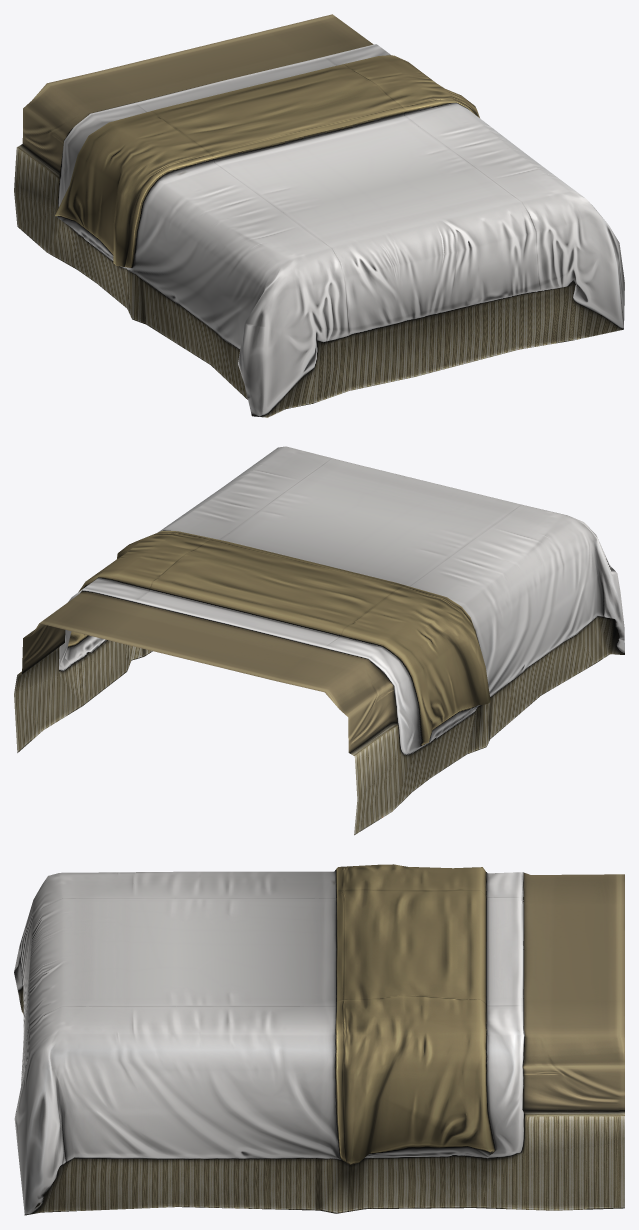
Rendered from Bed02.FBX.
3 renders of one model, top to bottom at view 1: azimuth 30°, elevation 25°; view 2: azimuth 150°, elevation 25°; view 3: azimuth 270°, elevation 25°, orthographic. The views are drawn at different scales.
Parts seen in each view (by area): view 1: Bed02; view 2: Bed02; view 3: Bed02.
Boxes of the visible parts, box(x1,y1,x2,y2) form: Bed02: box(14, 14, 624, 417); Bed02: box(14, 446, 624, 835); Bed02: box(14, 864, 624, 1215).
Size of the model in its own units: 232 by 273 by 85.37.
